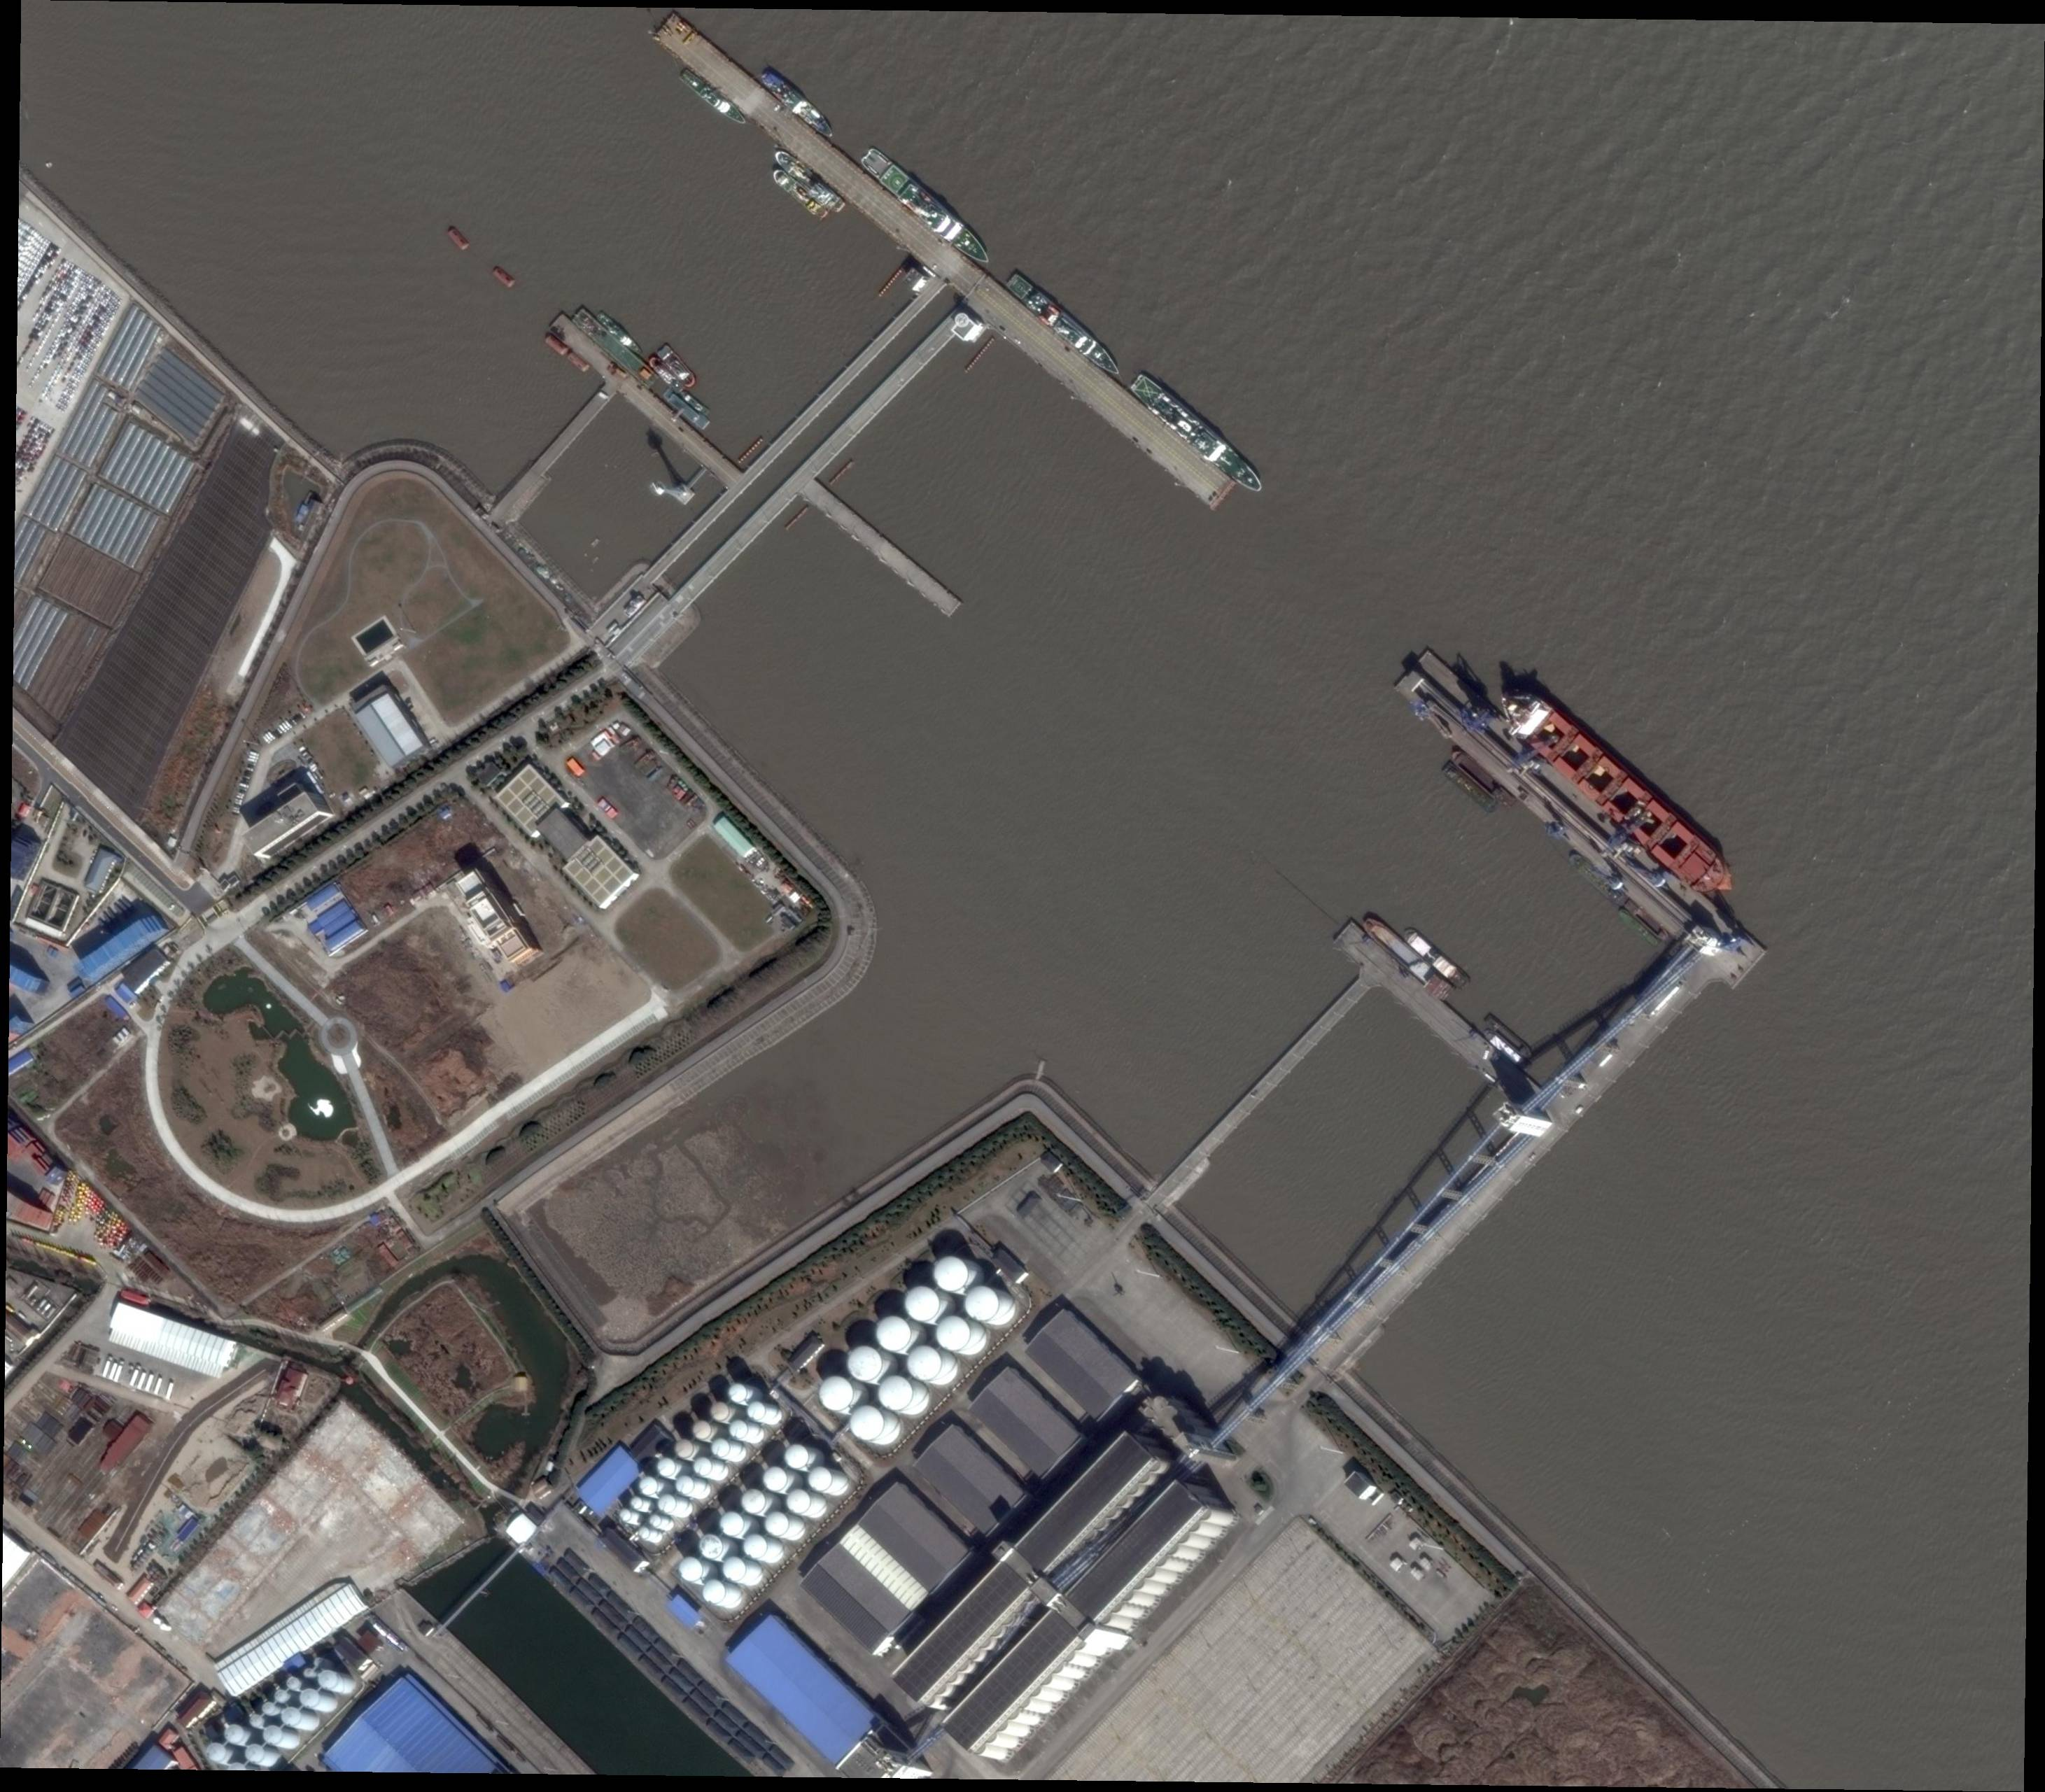harbor: (796, 478, 963, 619)
ship: (1127, 372, 1273, 495), (857, 146, 998, 271), (1003, 273, 1127, 379), (1360, 913, 1457, 1005), (572, 308, 659, 391), (756, 68, 840, 144), (770, 144, 847, 216), (1402, 925, 1473, 994), (680, 68, 751, 129), (1450, 747, 1518, 810), (769, 165, 831, 222), (1567, 850, 1628, 907), (1440, 760, 1501, 815), (1485, 1013, 1535, 1060), (596, 311, 645, 356), (1624, 899, 1671, 944), (663, 388, 711, 431), (1482, 1027, 1529, 1069), (657, 344, 699, 388), (1617, 907, 1661, 947), (647, 355, 687, 393), (682, 389, 711, 417)
storage tank: (906, 1286, 941, 1321), (878, 1316, 911, 1351), (967, 1286, 1000, 1321), (849, 1347, 883, 1380), (937, 1317, 970, 1351), (908, 1347, 943, 1378), (878, 1378, 913, 1410), (819, 1378, 854, 1410), (936, 1257, 967, 1290), (852, 1408, 883, 1441), (741, 1488, 765, 1516), (720, 1512, 744, 1536), (744, 1535, 769, 1559), (788, 1488, 810, 1514), (810, 1465, 833, 1491), (699, 1535, 722, 1559), (767, 1512, 789, 1536), (763, 1467, 788, 1490), (784, 1444, 809, 1467), (680, 1557, 703, 1580), (723, 1557, 746, 1580), (704, 1580, 725, 1603), (299, 1688, 320, 1707), (675, 1437, 694, 1458), (205, 1743, 226, 1762), (224, 1724, 243, 1743), (245, 1743, 264, 1762), (282, 1707, 301, 1726), (640, 1476, 659, 1495), (657, 1458, 676, 1477), (694, 1457, 713, 1476), (692, 1420, 711, 1439), (709, 1401, 729, 1420), (748, 1401, 767, 1420), (659, 1493, 676, 1512), (264, 1726, 283, 1743), (320, 1669, 337, 1688), (676, 1476, 694, 1495), (711, 1439, 730, 1457), (729, 1384, 746, 1401), (730, 1420, 748, 1437), (249, 1714, 263, 1728), (629, 1497, 642, 1509), (275, 1689, 287, 1702), (263, 1702, 275, 1714), (621, 1509, 631, 1523), (650, 1514, 661, 1526), (287, 1677, 297, 1689), (638, 1528, 649, 1538), (304, 1669, 313, 1677)
